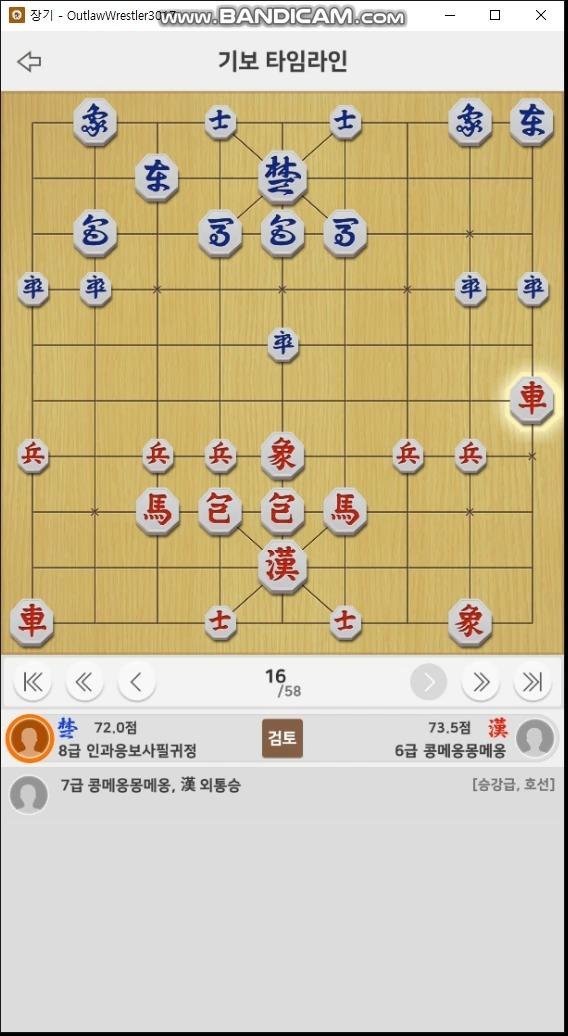cha_green: (134, 157, 180, 202), (512, 100, 553, 146)
cha_red: (508, 376, 553, 422), (12, 600, 54, 645)
jol_green: (452, 271, 489, 309), (514, 269, 550, 307), (265, 327, 302, 363), (79, 271, 114, 306), (15, 273, 50, 305)
jol_red: (141, 437, 176, 476), (455, 437, 488, 476), (16, 437, 49, 474), (204, 439, 236, 475), (393, 438, 424, 474)
ma_green: (197, 209, 244, 254), (322, 209, 367, 255)
ma_red: (135, 488, 180, 536), (323, 487, 366, 534)
po_green: (261, 209, 306, 256), (73, 209, 117, 257)
po_red: (261, 490, 305, 534), (200, 487, 242, 529)
sa_green: (329, 104, 363, 138), (203, 105, 237, 137)
sa_red: (330, 605, 362, 643), (205, 605, 236, 642)
sang_green: (75, 97, 117, 144), (450, 97, 492, 143)
sang_red: (261, 434, 307, 479), (448, 598, 491, 645)
wang_green: (259, 150, 308, 204)
wang_red: (260, 542, 306, 590)
